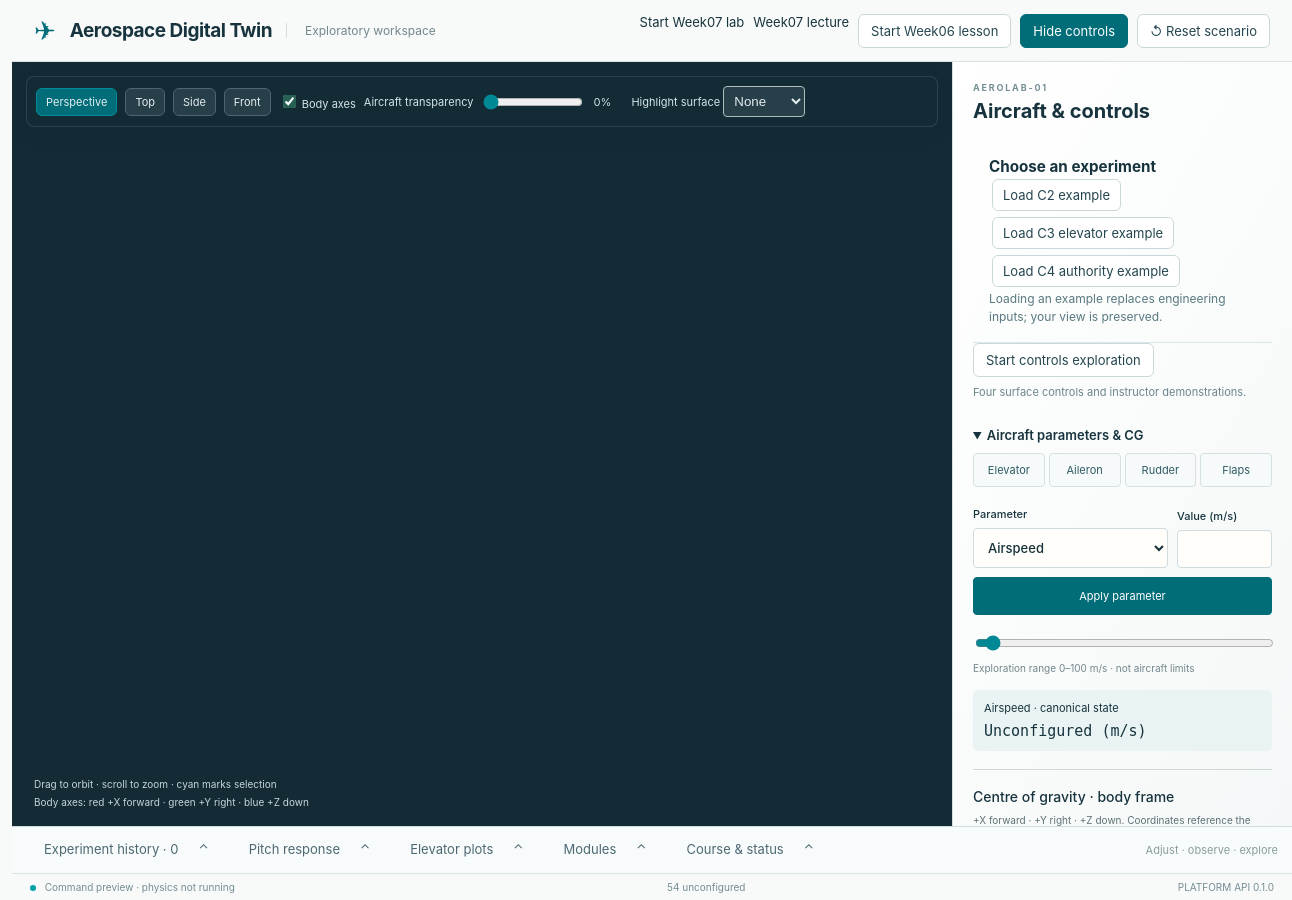
application catalog shell › renders independently registered module and lesson fixtures through the same catalog interface
Click the button "Course & status ⌃". click: x=750, y=850
box: left=668, top=827, right=832, bottom=873
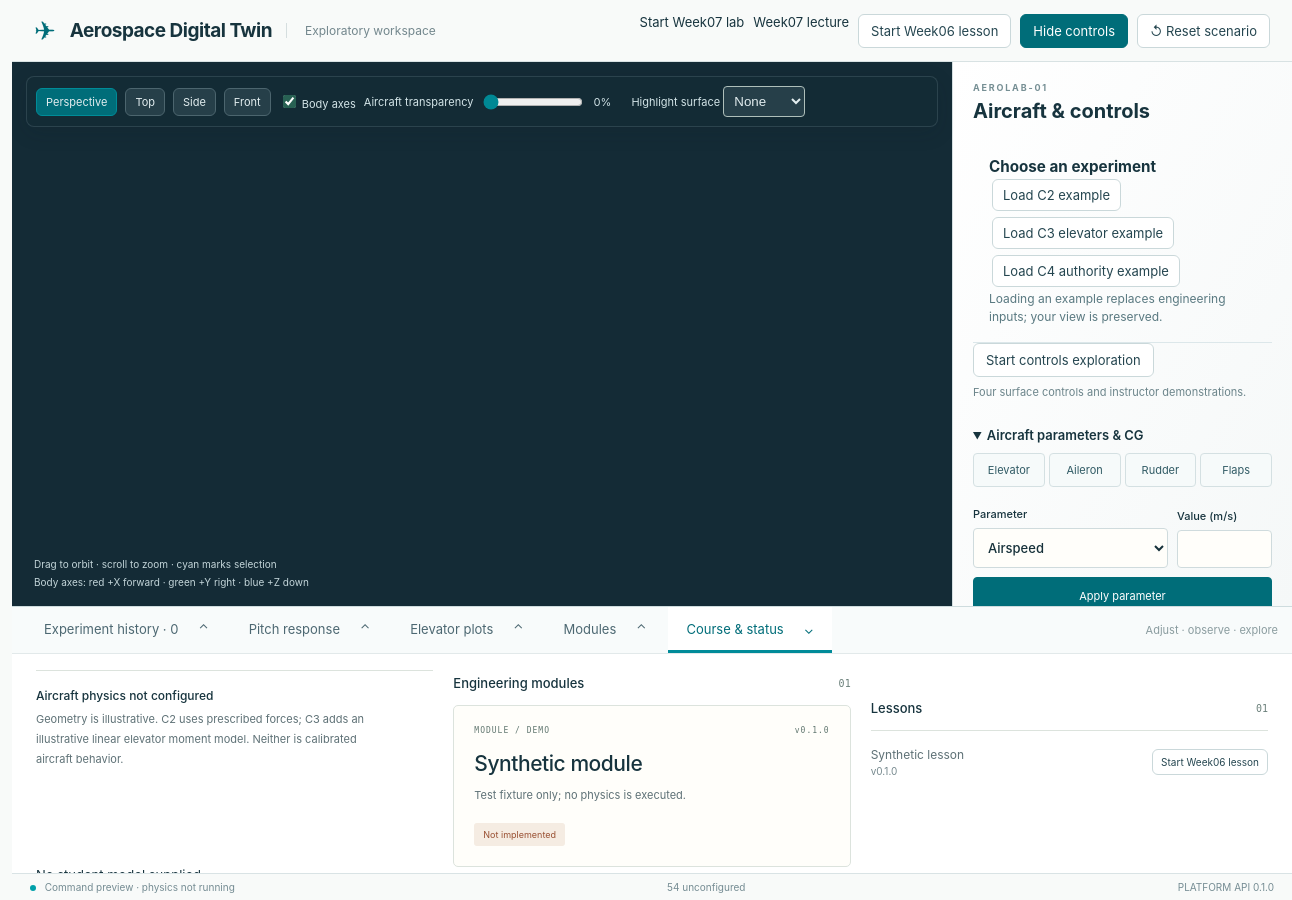
Expected: the heading "Synthetic module" is shown, left=474, top=751, right=642, bottom=776
Expected: the text "Synthetic lesson" is shown, left=871, top=747, right=964, bottom=762
